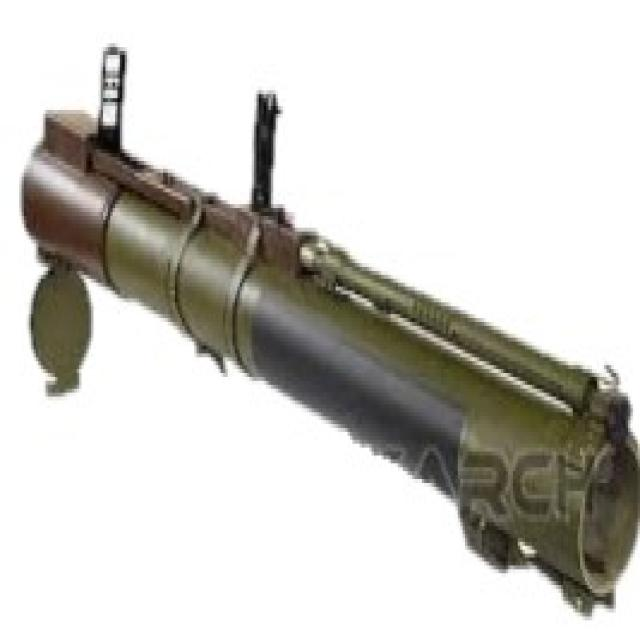bazooka: (20, 40, 640, 620)
